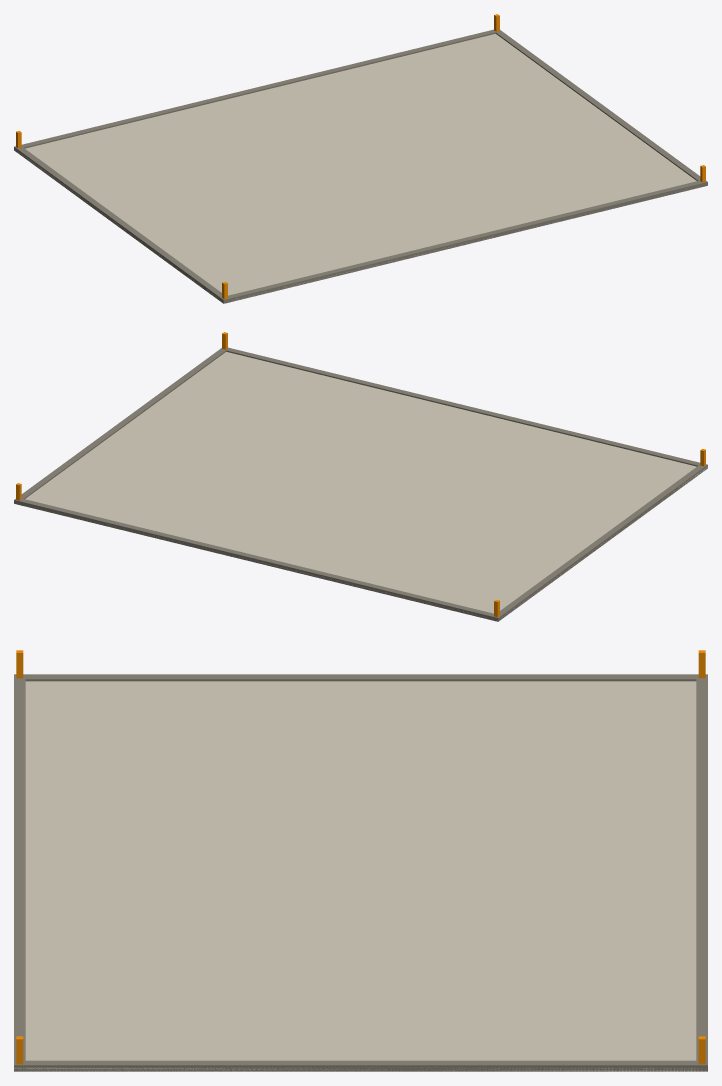
Rendered from lot.glb.
The picture shows the model from 3 angles, top to bottom: view 1: azimuth 30°, elevation 25°; view 2: azimuth 150°, elevation 25°; view 3: azimuth 270°, elevation 25°; orthographic projection. The views are drawn at different scales.
Visible parts, largest first — view 1: ground, edge_0, edge_1, edge_2, edge_3; view 2: ground, edge_1, edge_0, edge_2, edge_3; view 3: ground, edge_3, edge_2, edge_0, edge_1.
Boxes of the visible parts, <box> form: ground: <box>14,34,699,300</box>; edge_0: <box>220,181,707,303</box>; edge_1: <box>14,29,501,152</box>; edge_2: <box>15,147,228,303</box>; edge_3: <box>493,30,707,186</box>; ground: <box>25,352,707,620</box>; edge_1: <box>14,499,501,621</box>; edge_0: <box>221,347,707,466</box>; edge_2: <box>494,465,707,621</box>; edge_3: <box>14,348,228,504</box>; ground: <box>14,681,706,1071</box>; edge_3: <box>14,1060,707,1071</box>; edge_2: <box>14,674,707,681</box>; edge_0: <box>14,674,25,1071</box>; edge_1: <box>696,674,707,1071</box>.
Size of the model in its own units: 16 by 0.6 by 12.
